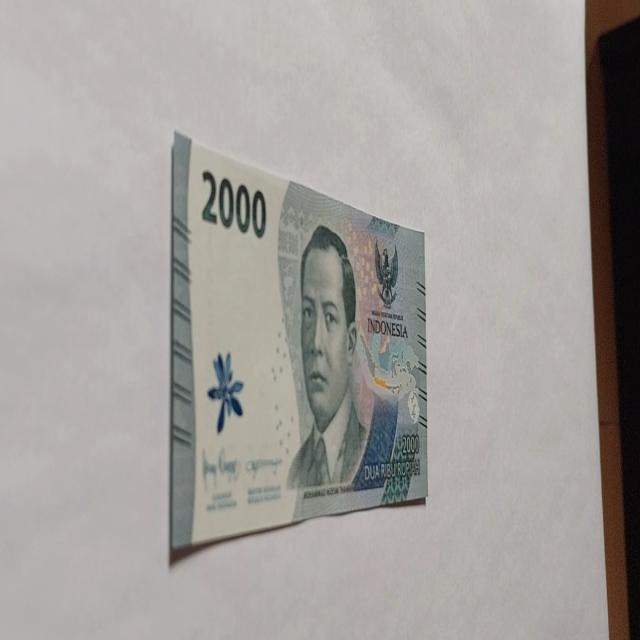dua ribu rupiah: (169, 128, 429, 556), (284, 223, 400, 502)
